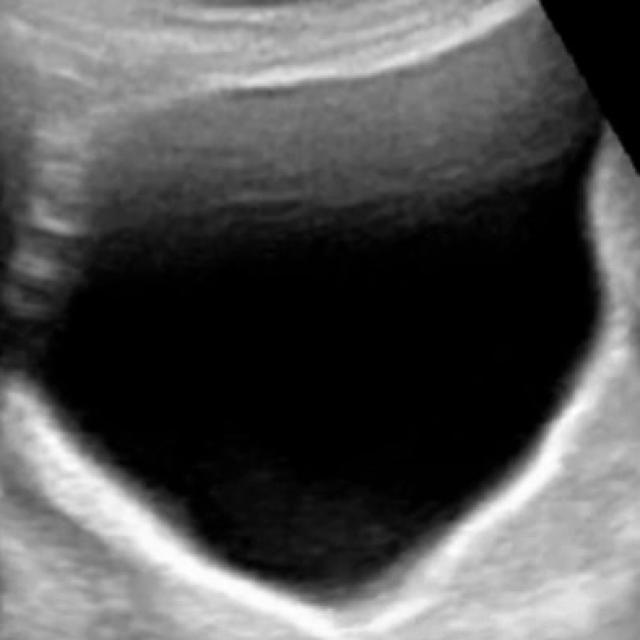bladder: (9, 7, 622, 628)
